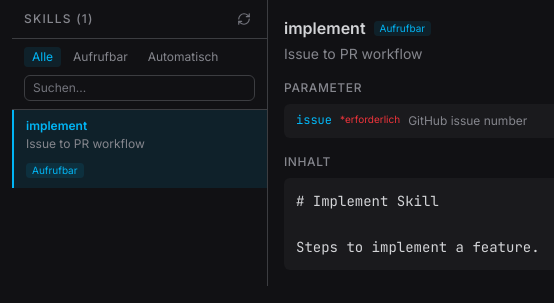
it: SkillsViewer › shows no-match text when search yields nothing
The image size is (554, 303).
Expected: the text "Skills (1)" is shown, [24,11,94,27]
Type "zzz-nomatch" into the field with placeholder "Suchen..." at {"x": 140, "y": 88}, box [24,75,255,101]
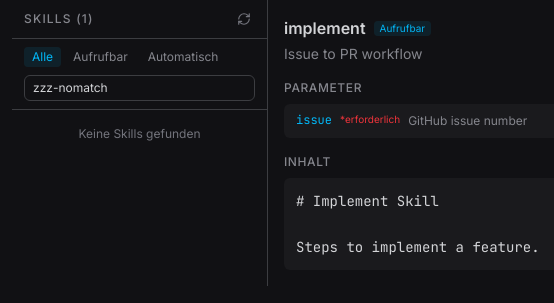
Now the text "Keine Skills gefunden" is shown, box [78,126,201,141]
